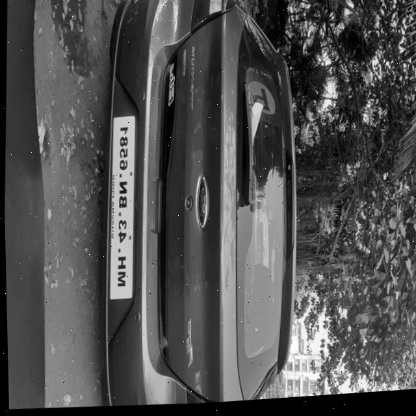car: (212, 254, 416, 405)
